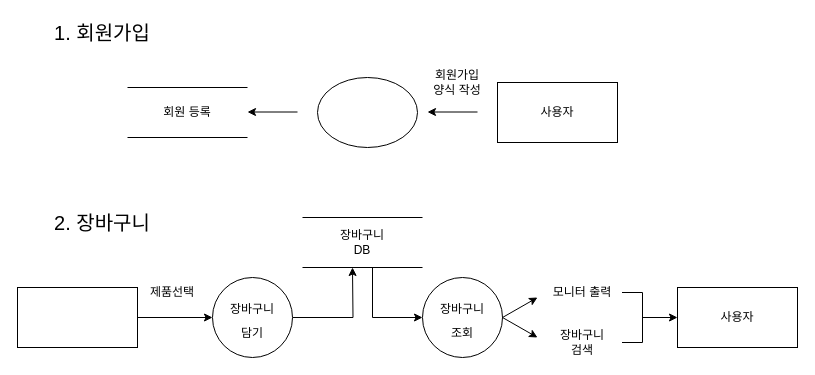
Some shapes in this 815 by 375 pixel diagram are drawn without their labels. The centre of each missing label's shape, as x and y in pixels:
관리자: pixel 77 317
회원가입: pixel 367 112
